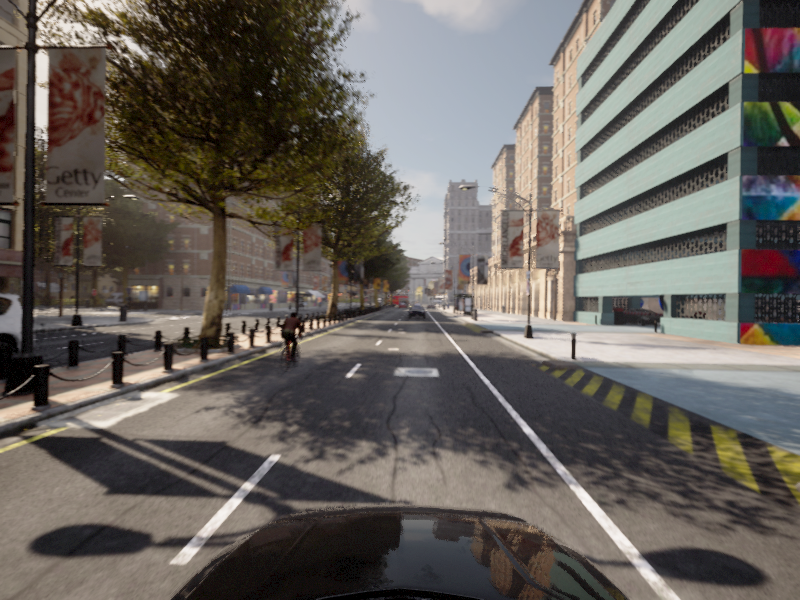vehicle: (1, 284, 49, 424), (270, 311, 310, 375), (408, 305, 426, 318)
